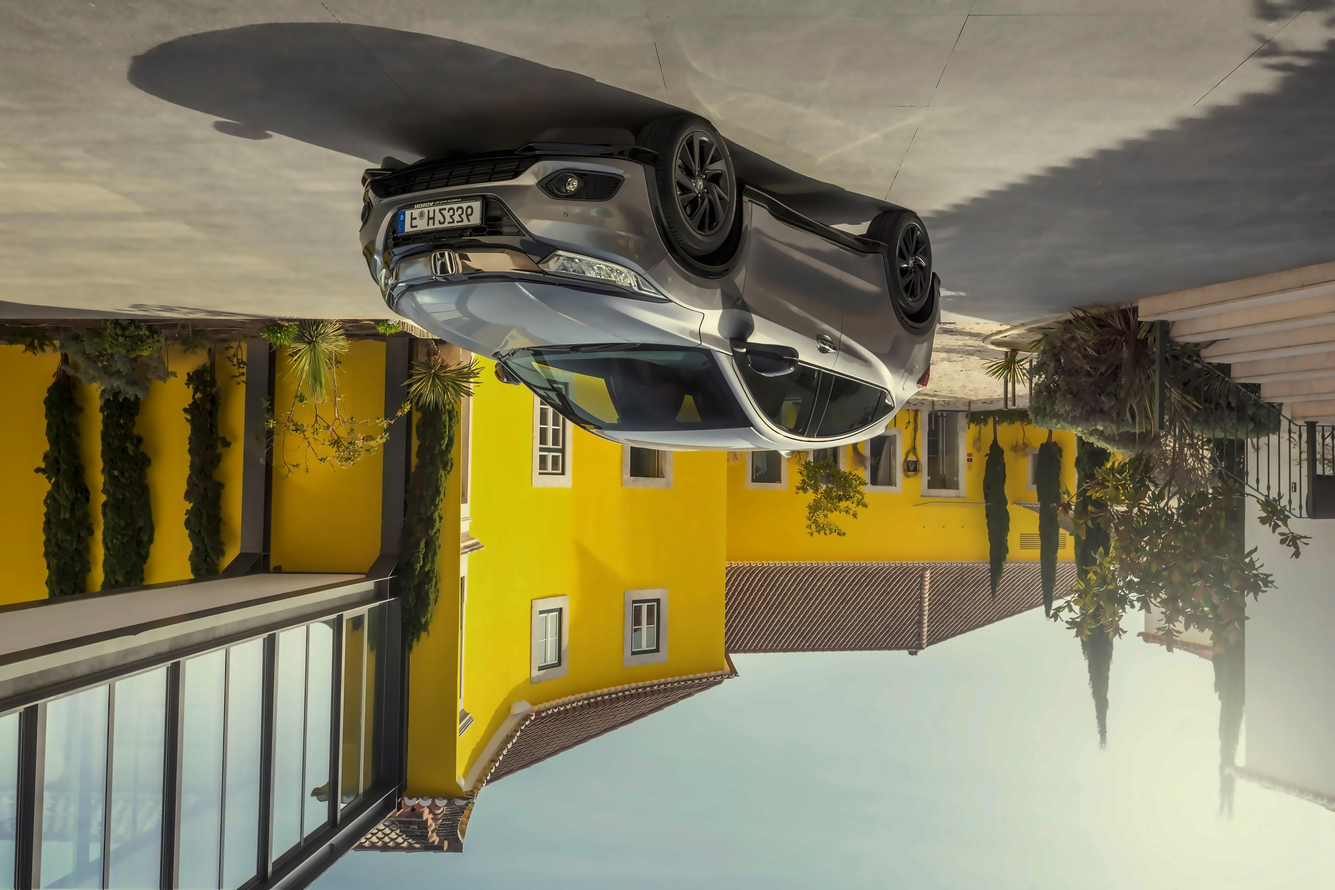Car hood: (393, 275, 707, 356)
Driver-s door - -F-R-: (733, 201, 833, 438)
Fender - -F-R-: (643, 188, 753, 359)
Fender - -R-R-: (894, 332, 928, 405)
Front bumper: (353, 140, 671, 256)
Headlight - -L-: (371, 260, 402, 311)
Headlight - -R-: (534, 244, 672, 303)
Passenger-s door - -R-R-: (819, 236, 898, 444)
Rear bumper: (925, 271, 953, 329), (915, 362, 933, 391)
Side bumper - -R-: (735, 179, 891, 261)
Side mirror - -R-: (729, 340, 799, 380)
